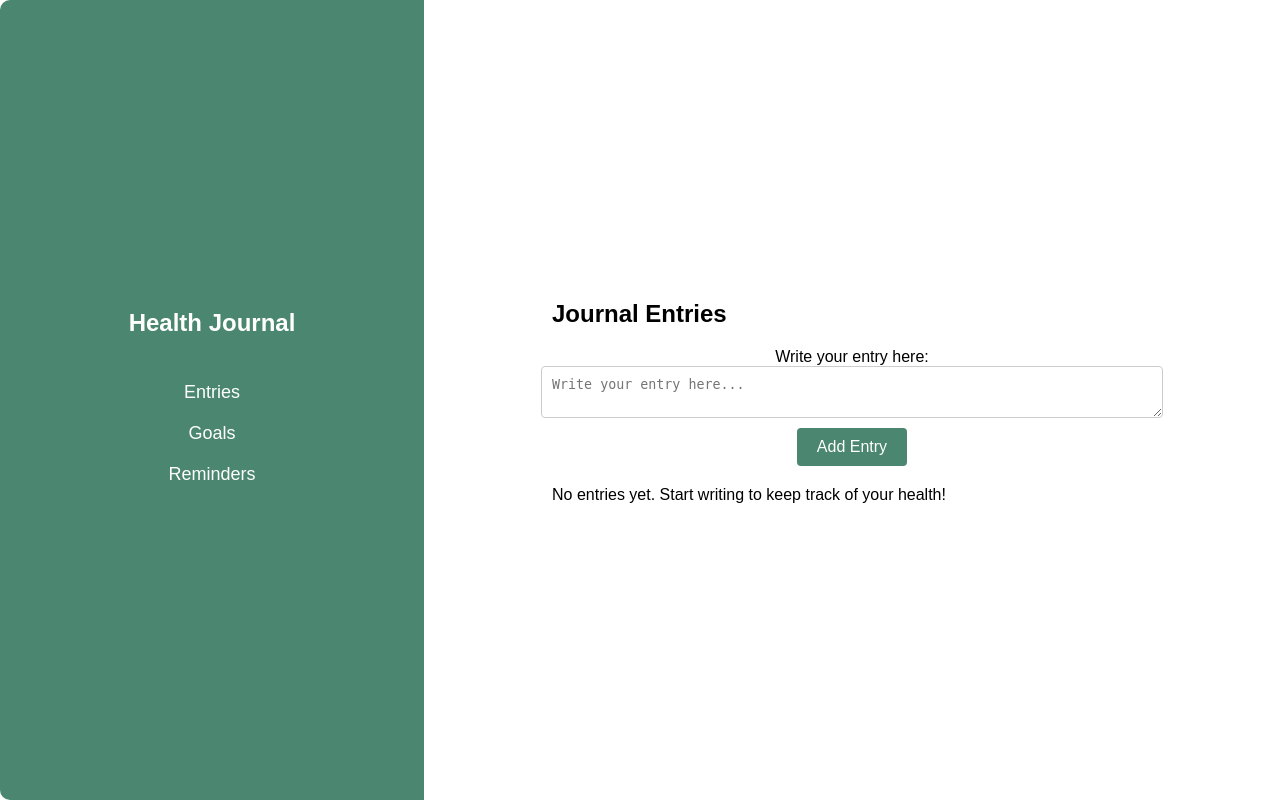
Test case: Journal Component › allows switching to Goals section
Click the button "Goals" at (212,433), box [188, 423, 236, 443]
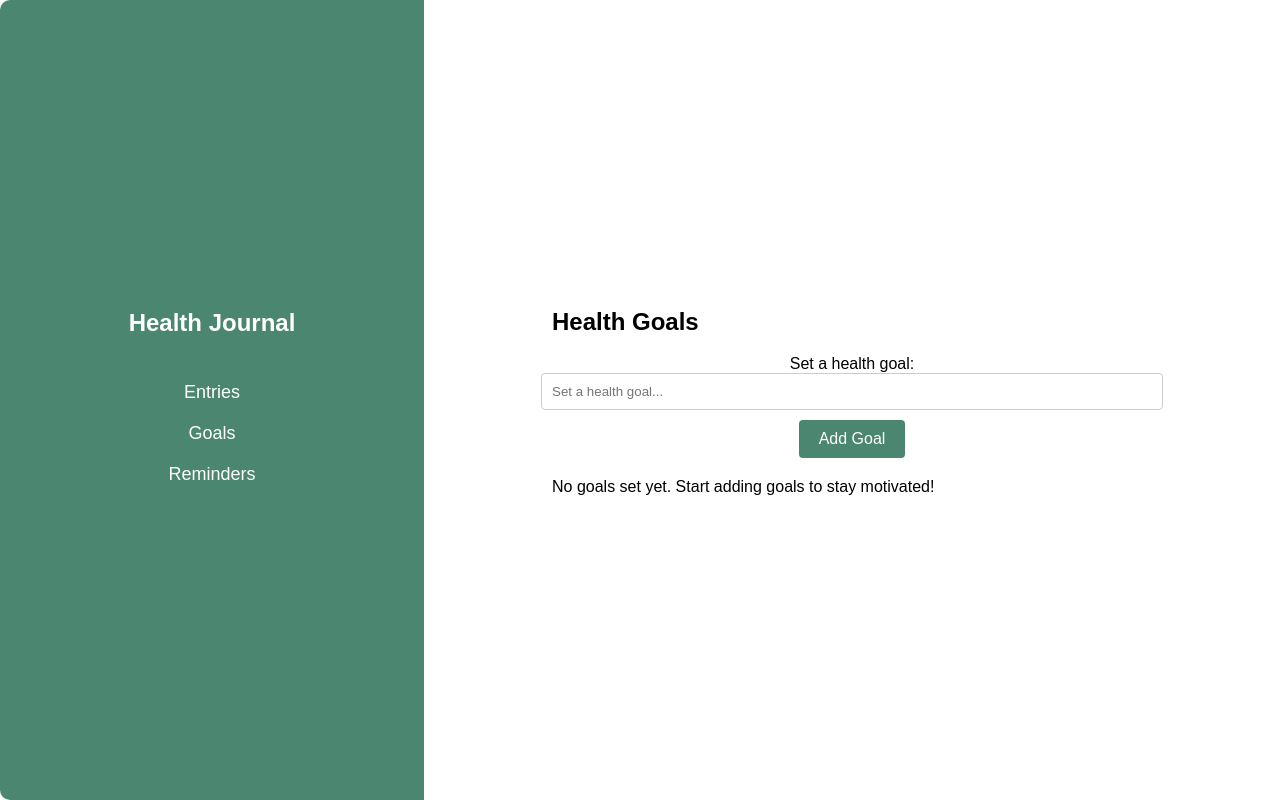
Expected: the heading "Health Goals" is shown, [552, 308, 699, 334]
